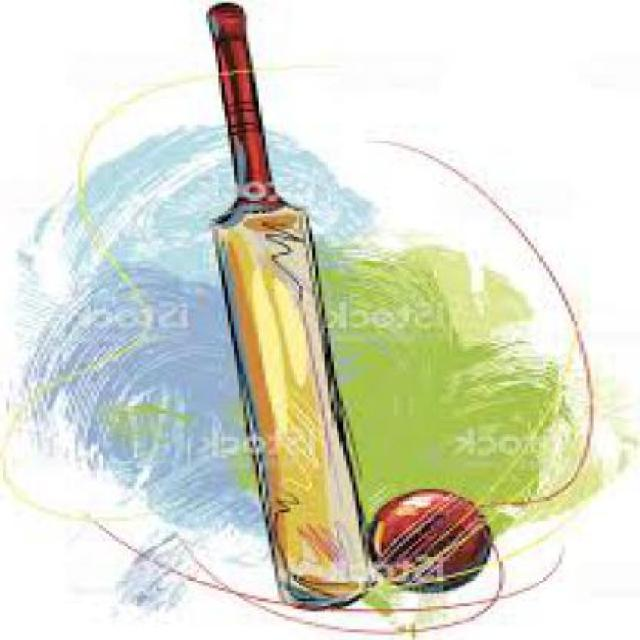ball: (357, 465, 520, 602)
